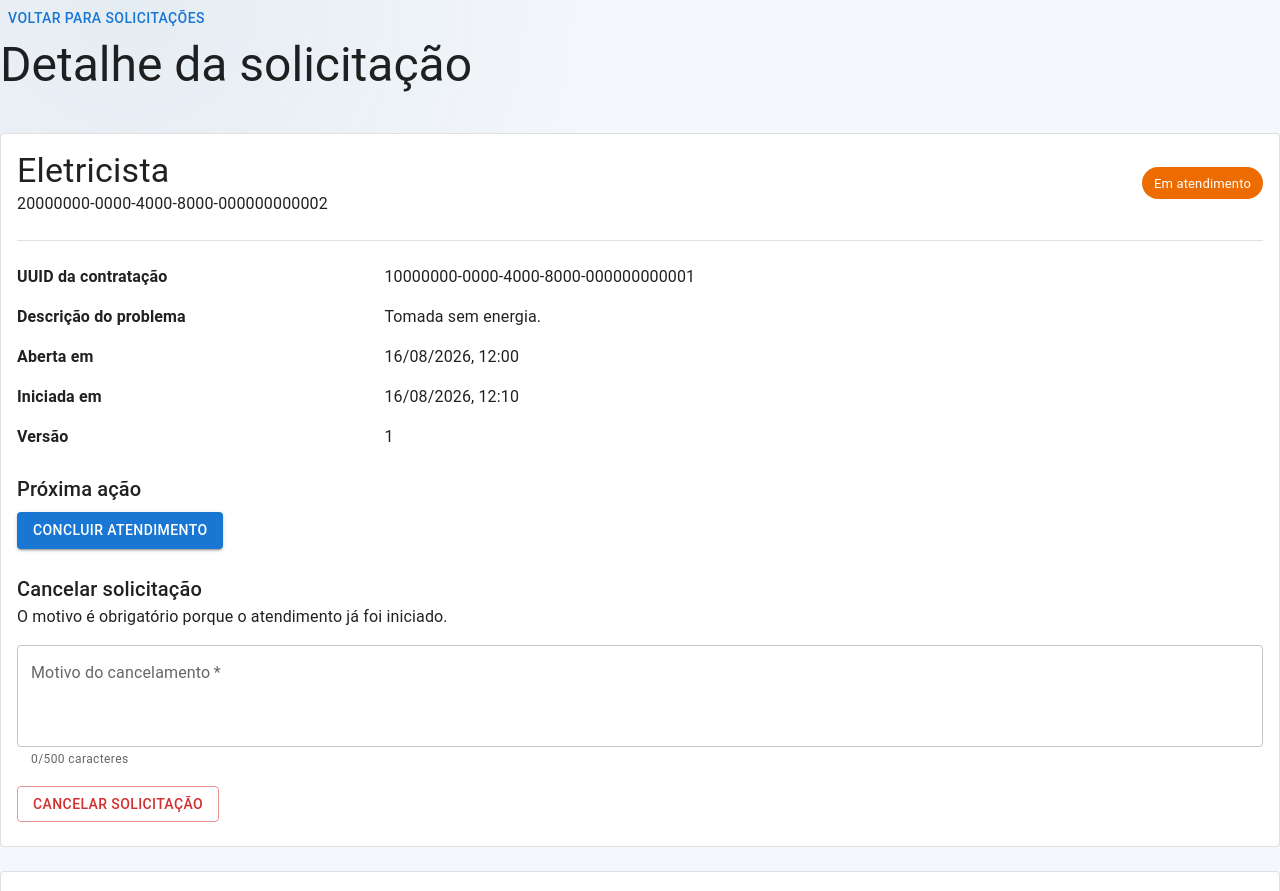
Scenario: PaginaDetalheSolicitacao › cancela em atendimento com motivo e nao envia tipoResponsavel
The width and height of the screenshot is (1280, 891).
Type "  Risco elétrico removido.  " into the text box labelled "Motivo do cancelamento" at (640, 696), box [31,661,1249,730]
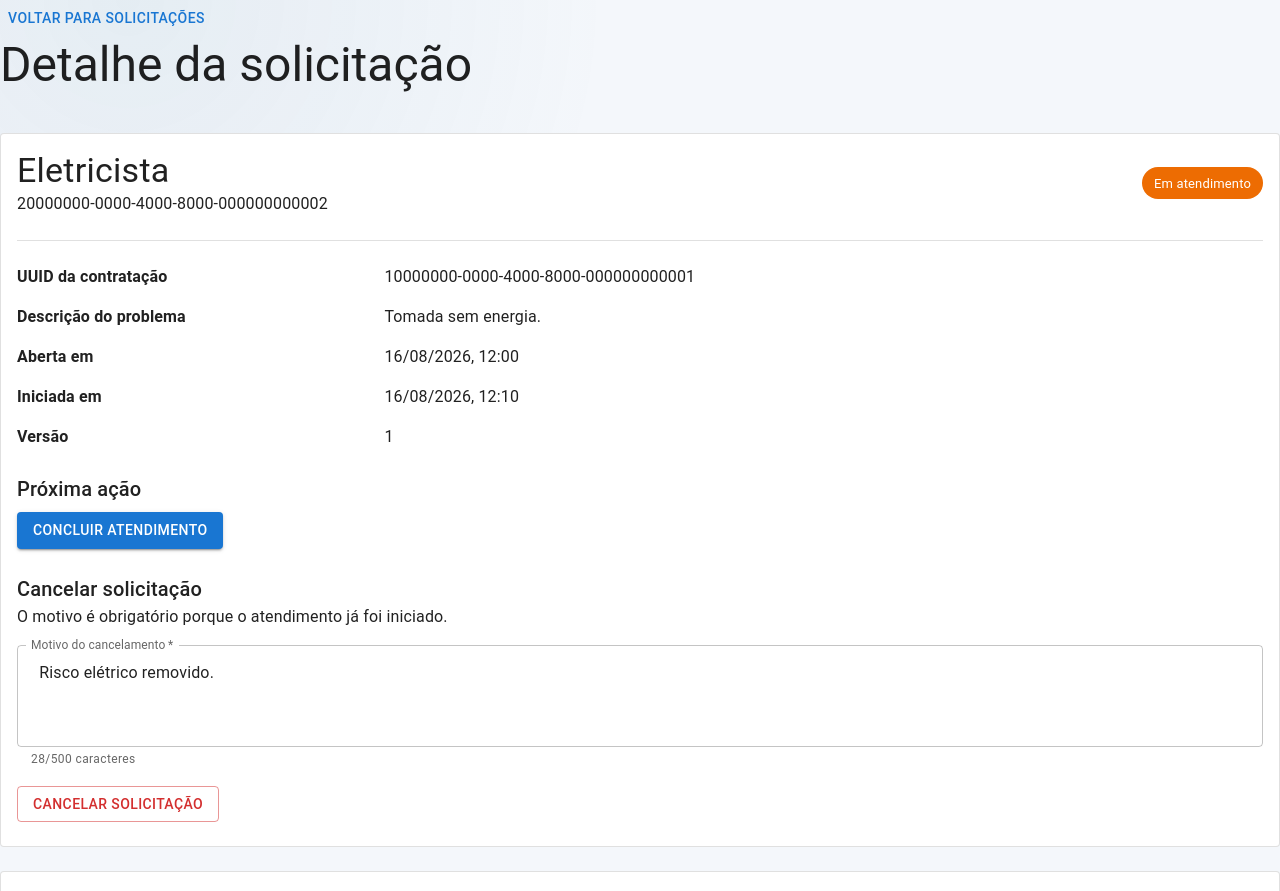
Click the button "Cancelar solicitação" at (118, 804), box [17,786,219,822]
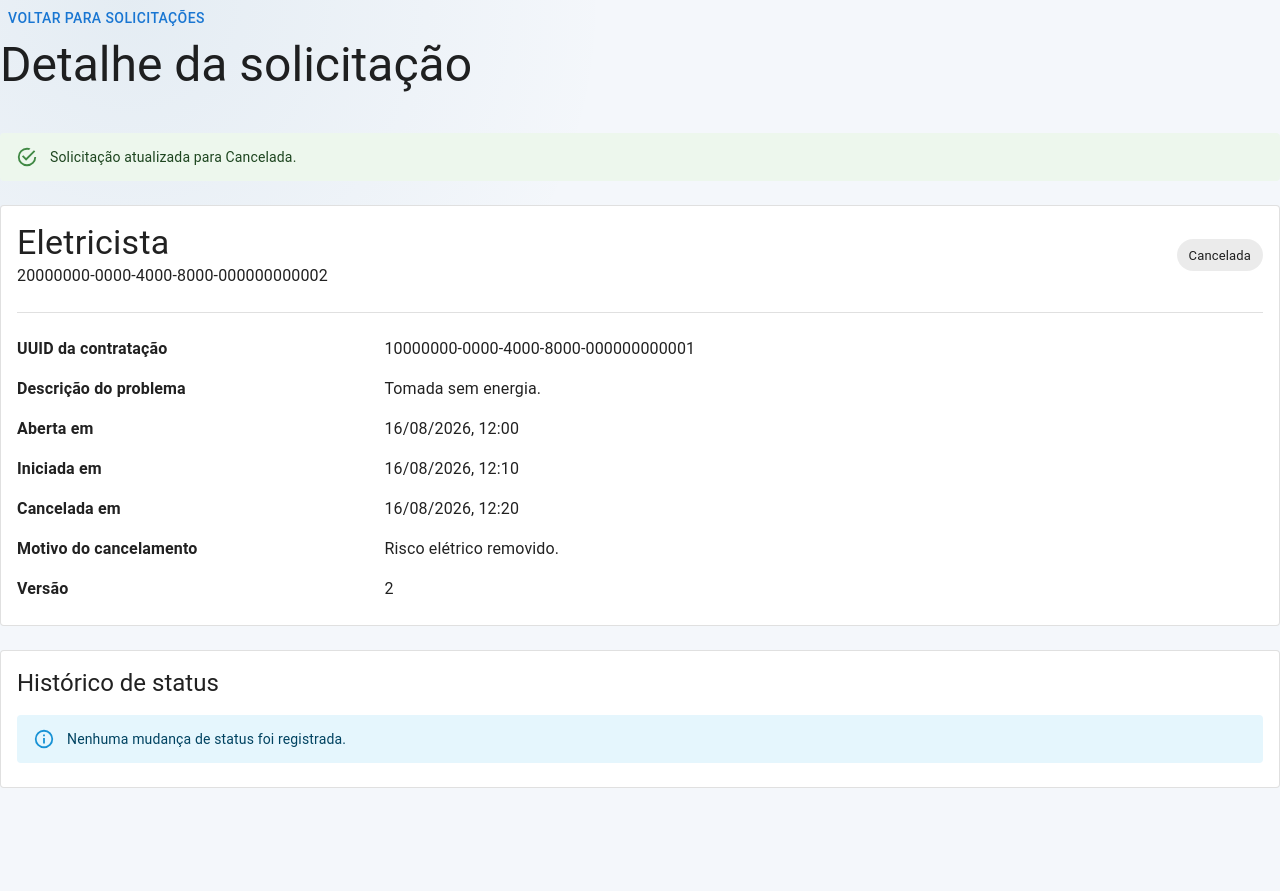
Expected: the element named "Status: Cancelada" is shown, [1177,239,1263,271]
